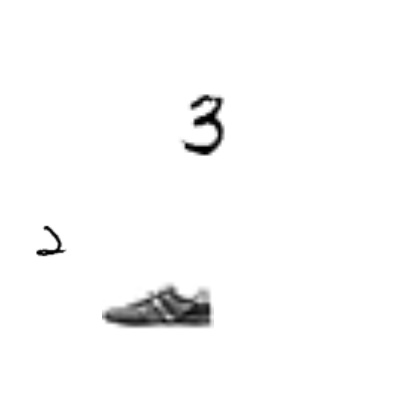2: (29, 223, 71, 265)
3: (164, 83, 248, 167)
Sneaker: (102, 251, 214, 363)
